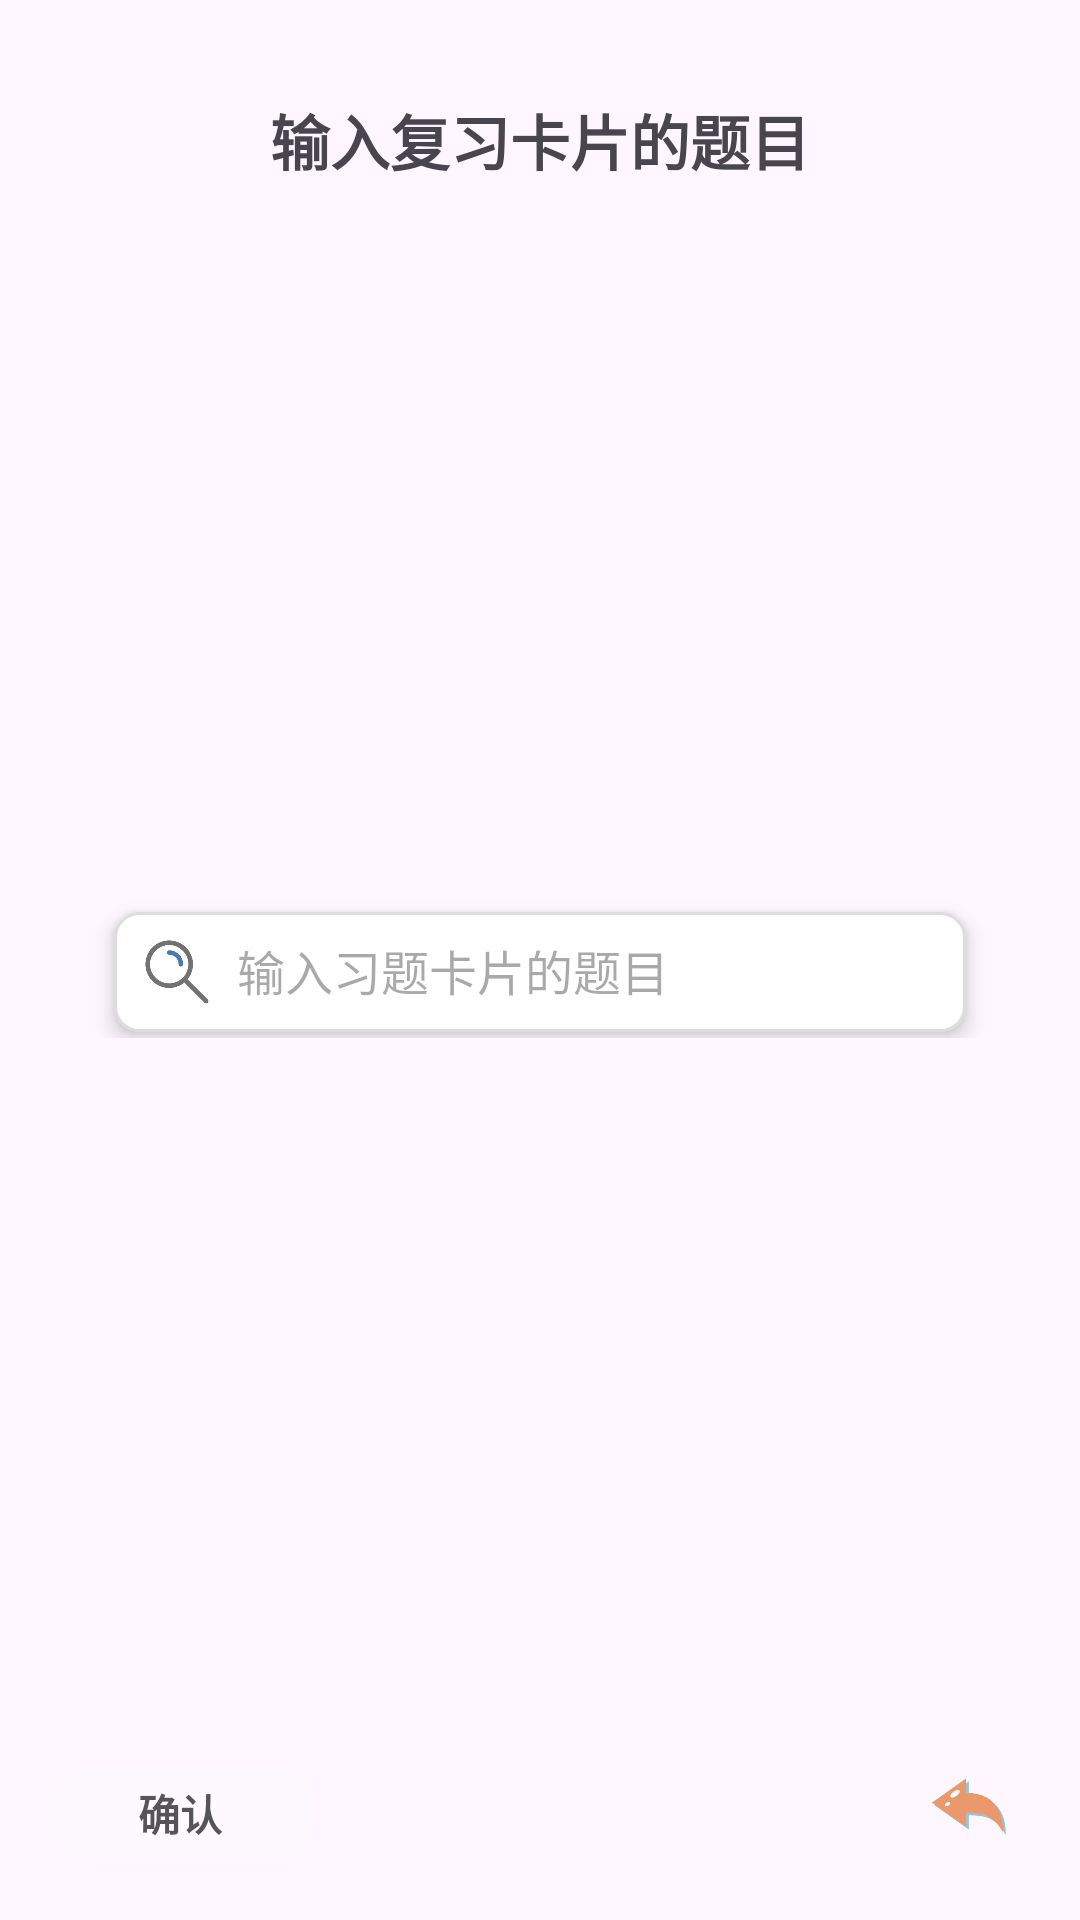

Where to tap for icons on this 1080px×1920px app screen, as point (x, y):
搜索图标: point (177, 972)
